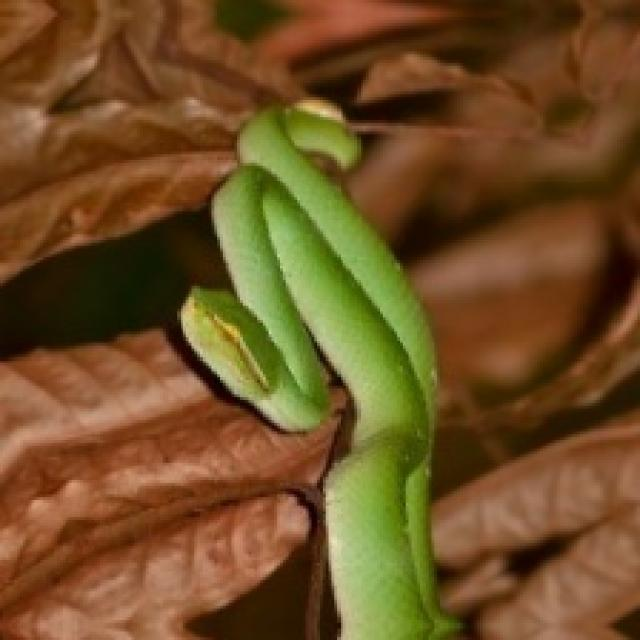north ph temple pitviper: (180, 100, 454, 637)
